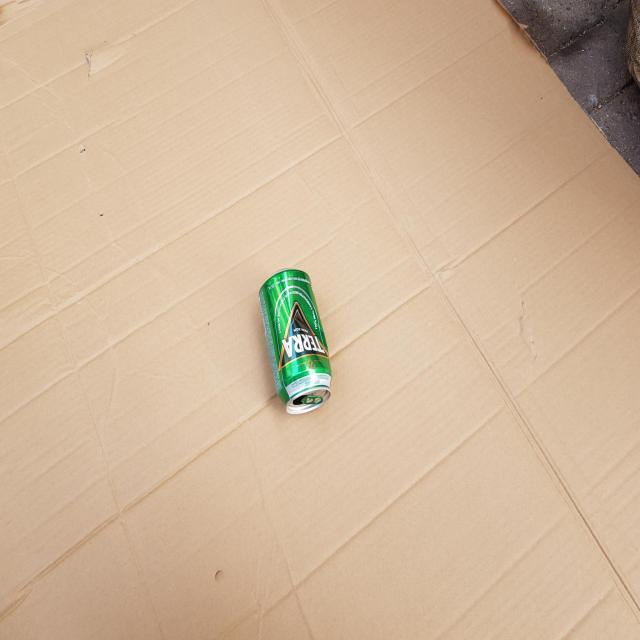can: (259, 269, 331, 415)
